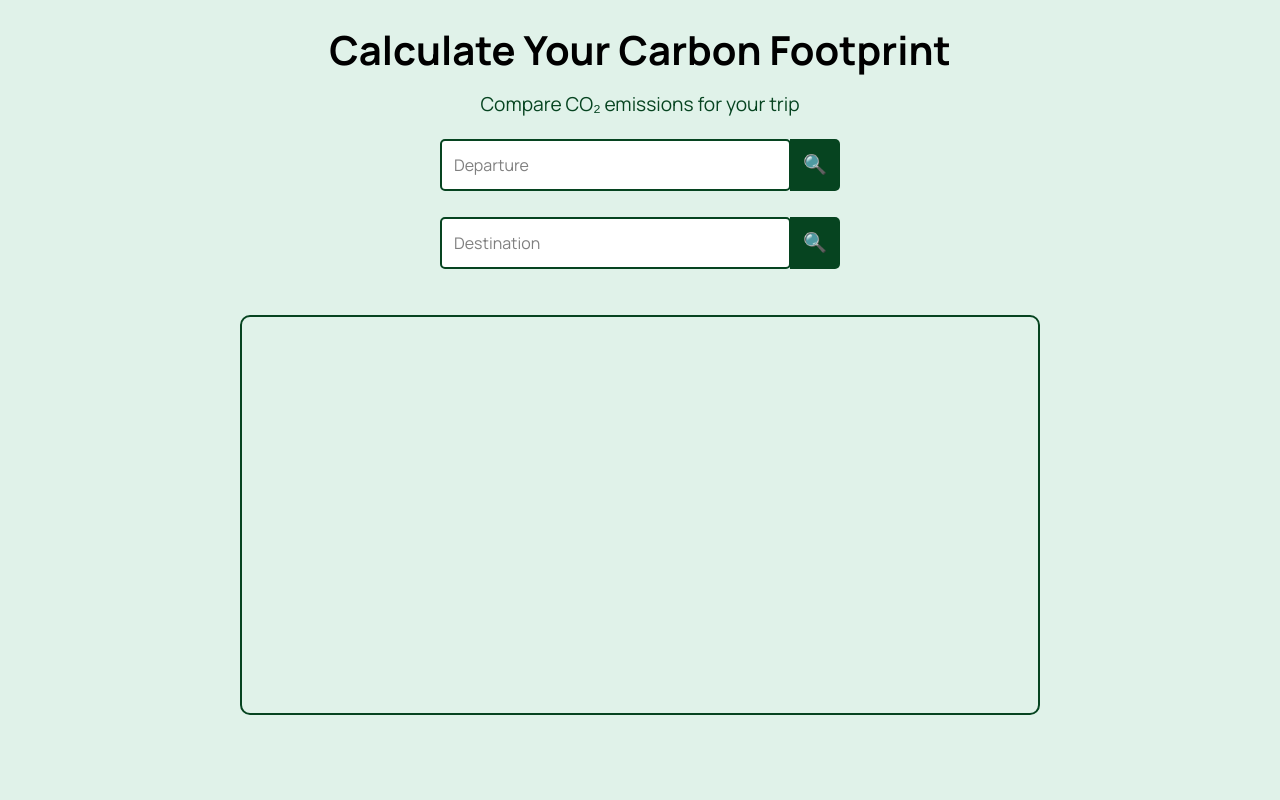
editing an address clears the previous route
This screenshot has width=1280, height=800.
In the field with placeholder "Departure": [616, 165] box [440,139,791,191], type "Paris"
Submit the form from the field with placeholder "Departure", box [440,139,791,191]
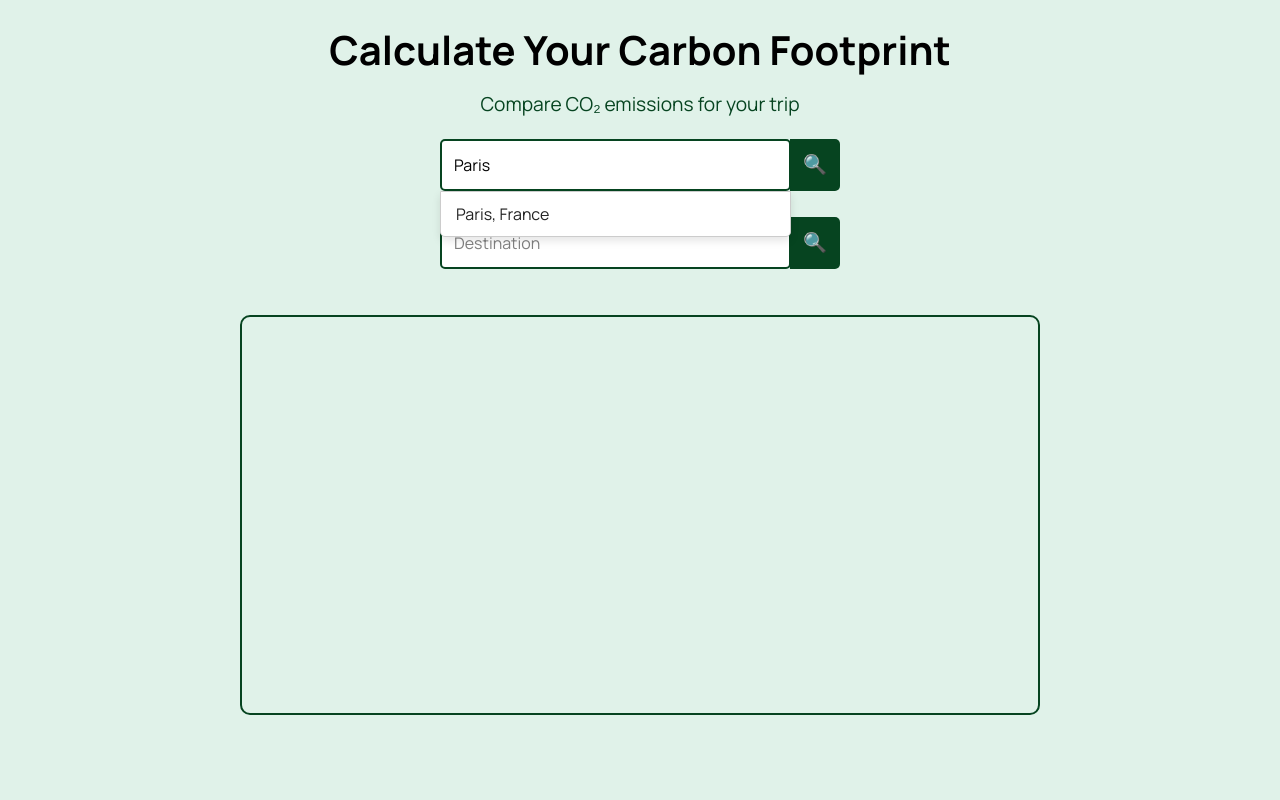
Press the mouse on the list item "Paris, France": [503, 214] box [456,203,549,225]
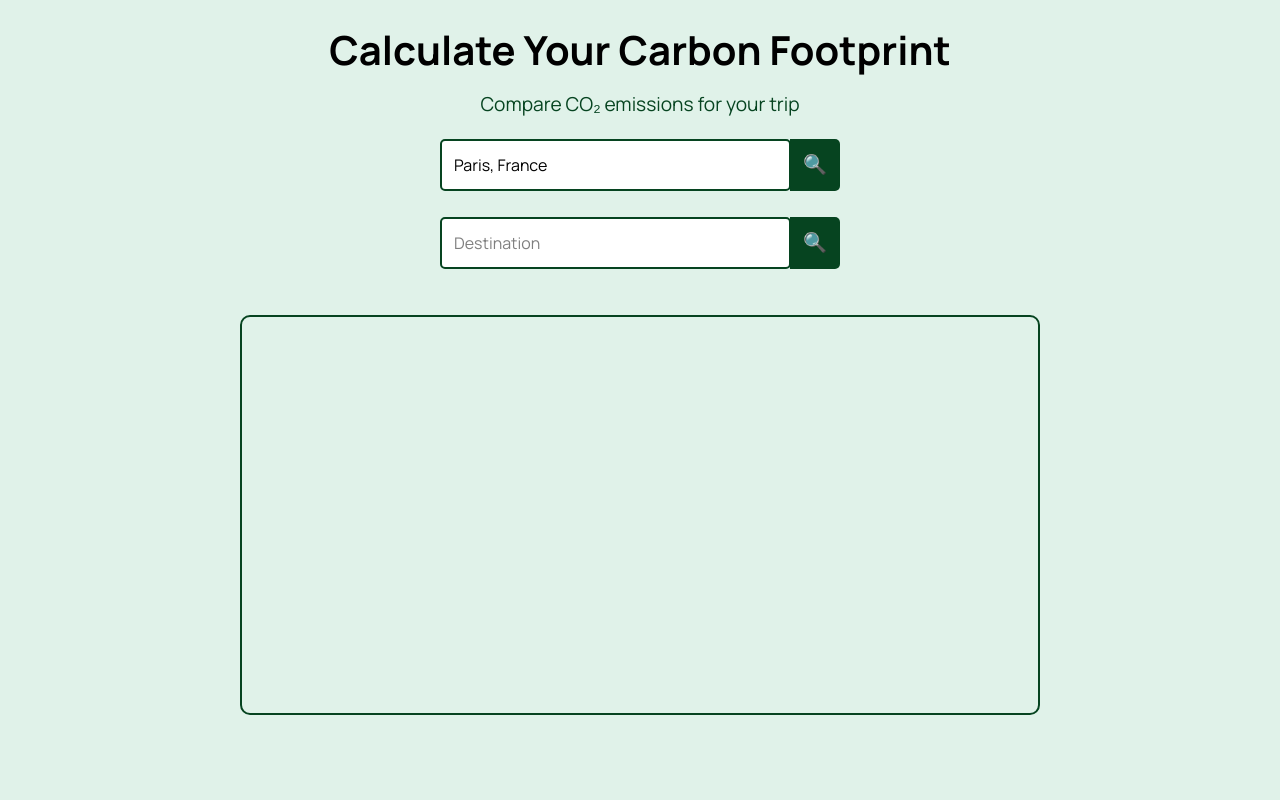
In the field with placeholder "Destination": [616, 243] box [440,217,791,269], type "Lyon"
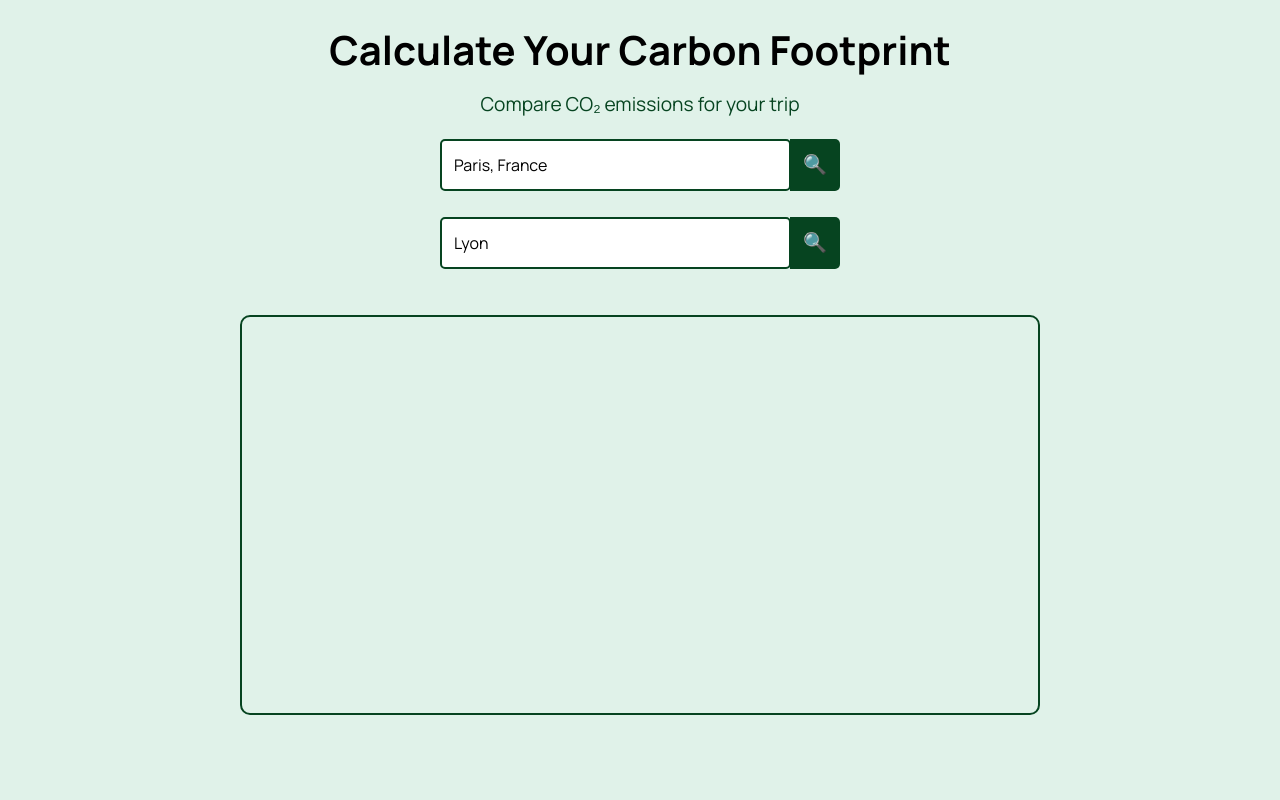
Submit the form from the 2nd field with placeholder "Destination", box [440,217,791,269]
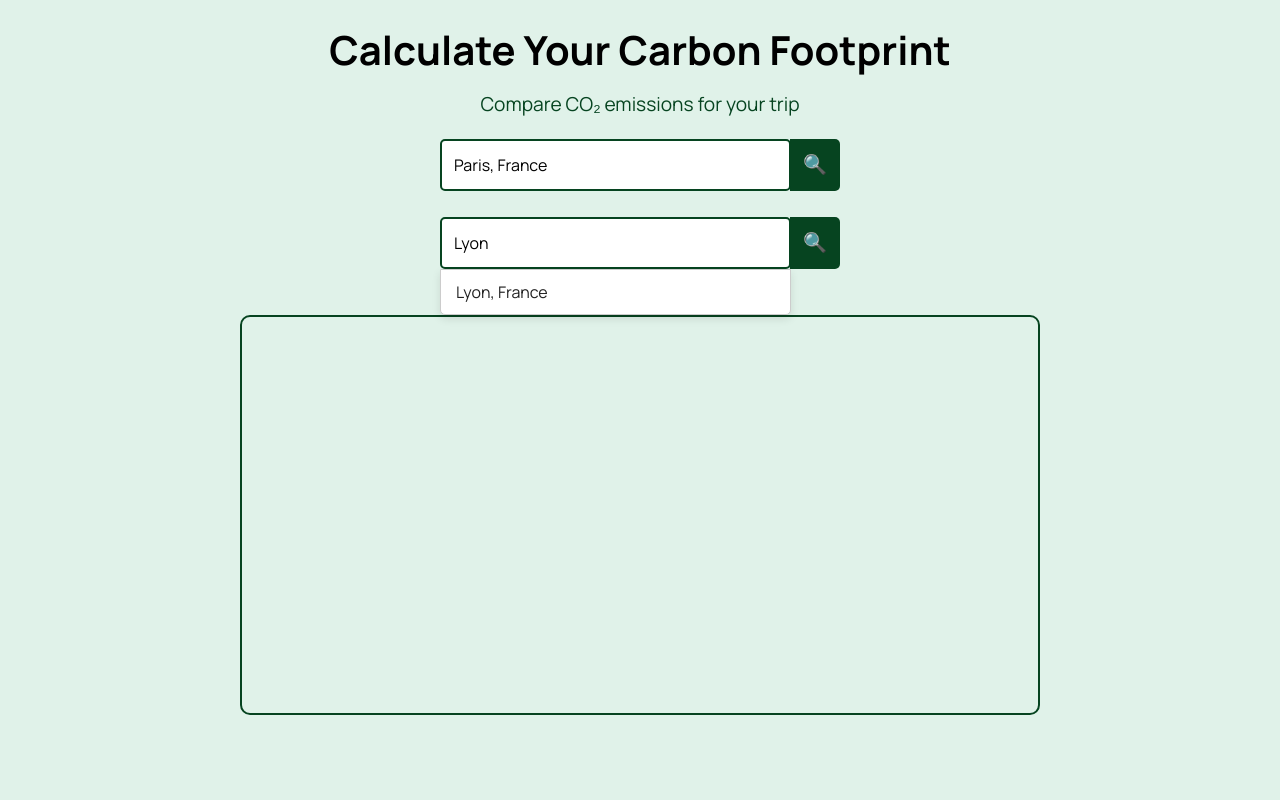
Press the mouse on the list item "Lyon, France": [502, 292] box [456,281,548,303]
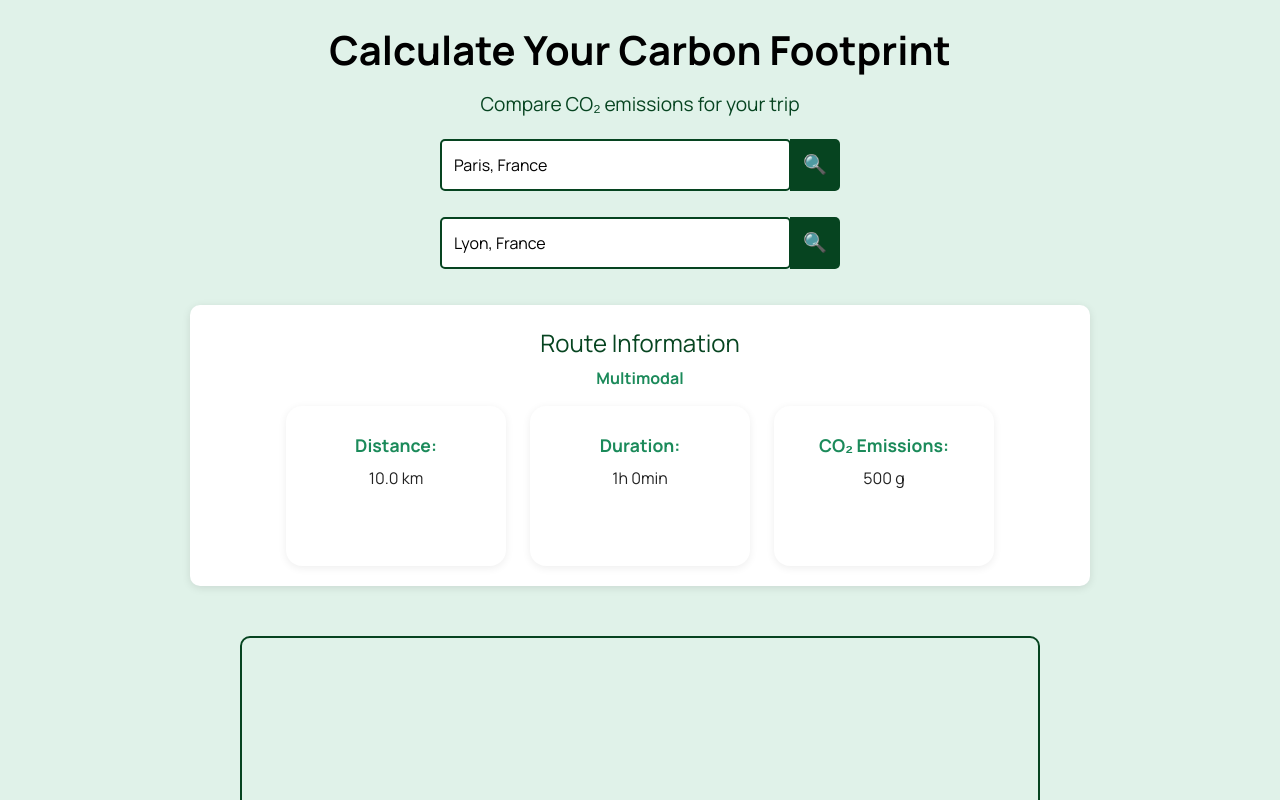
Now the heading "Route Information" is shown, box [540,326,740,359]
Replace the text in the 1st field with placeholder "Departure" with "Marseille": [616, 165] box [440,139,791,191]
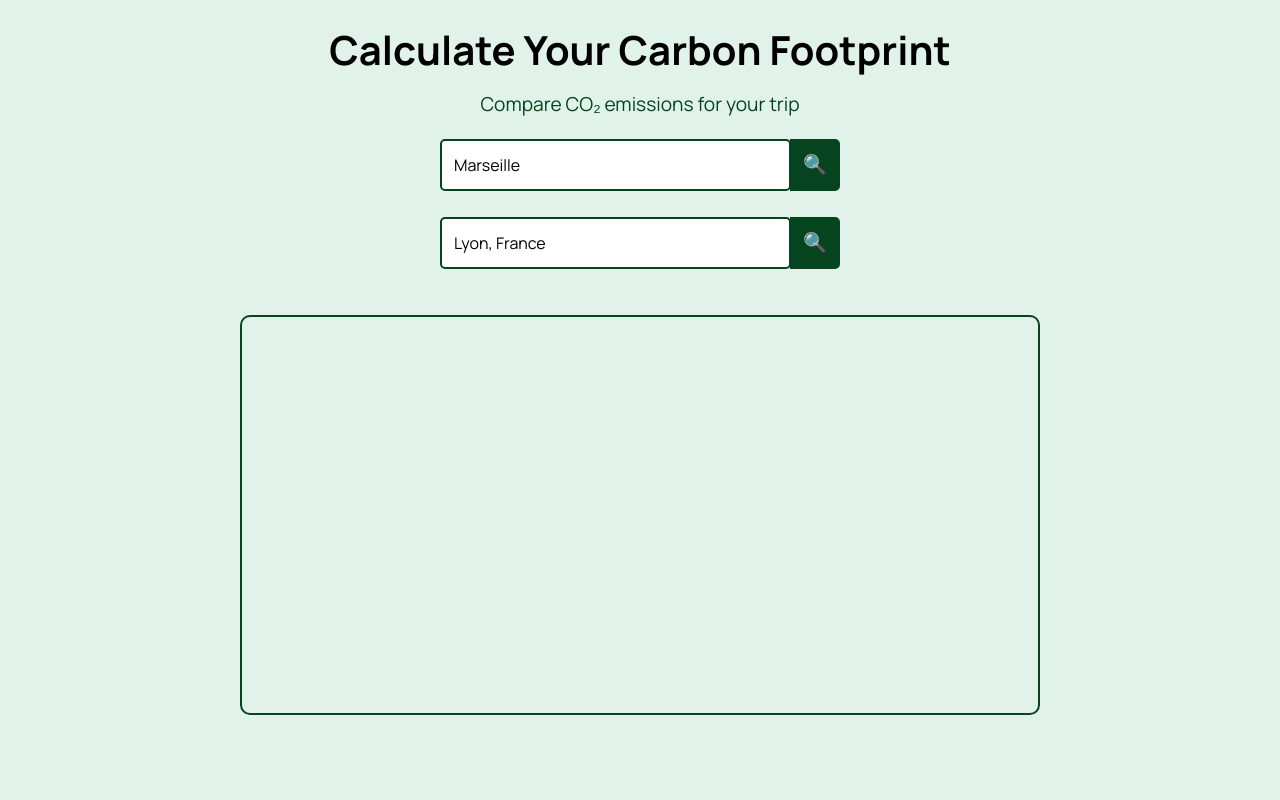
Now the heading "Route Information" is gone
